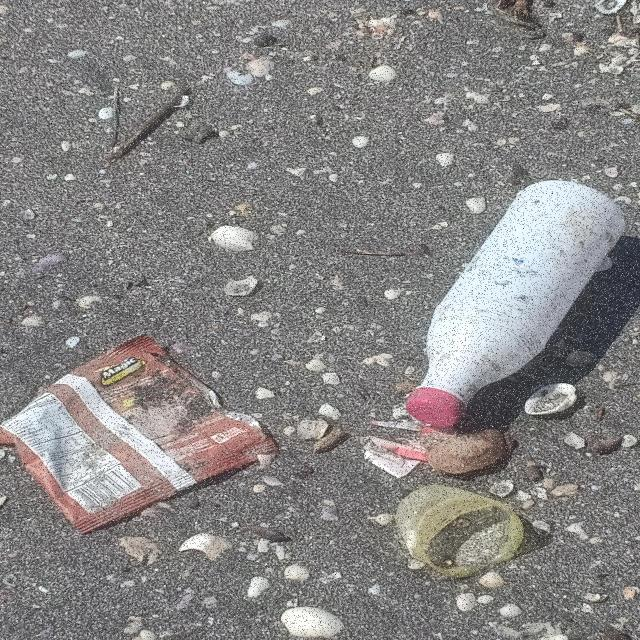plastic_waste: (2, 332, 283, 538), (405, 179, 630, 430), (394, 484, 526, 581)
